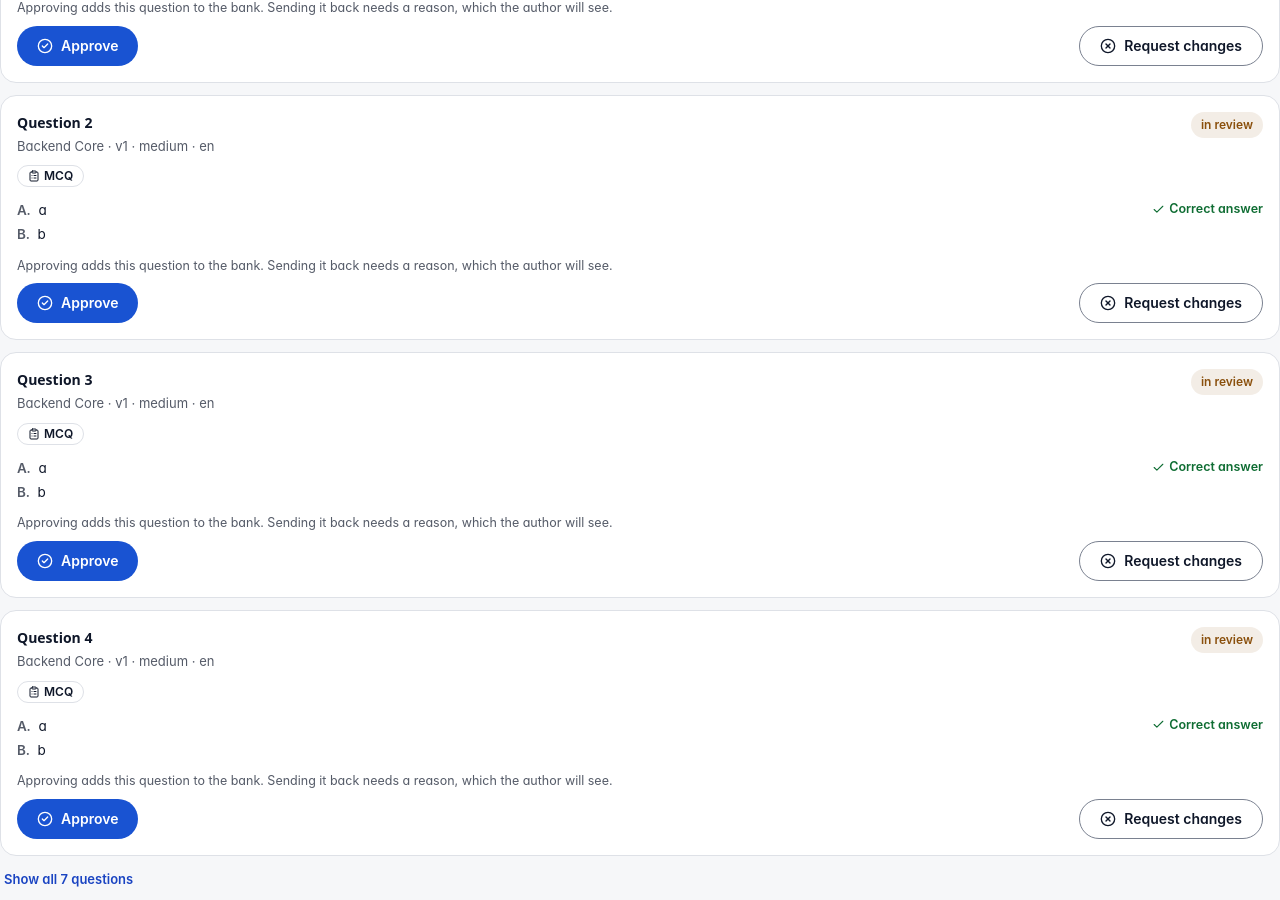
Test: QuestionReviewQueue - what a reviewer sees before deciding › caps a long queue at five with Show all
The width and height of the screenshot is (1280, 900).
(page scrolled)
Click the button "Show all 7 questions" at (69, 880), box x1=0 y1=860 x2=137 y2=899
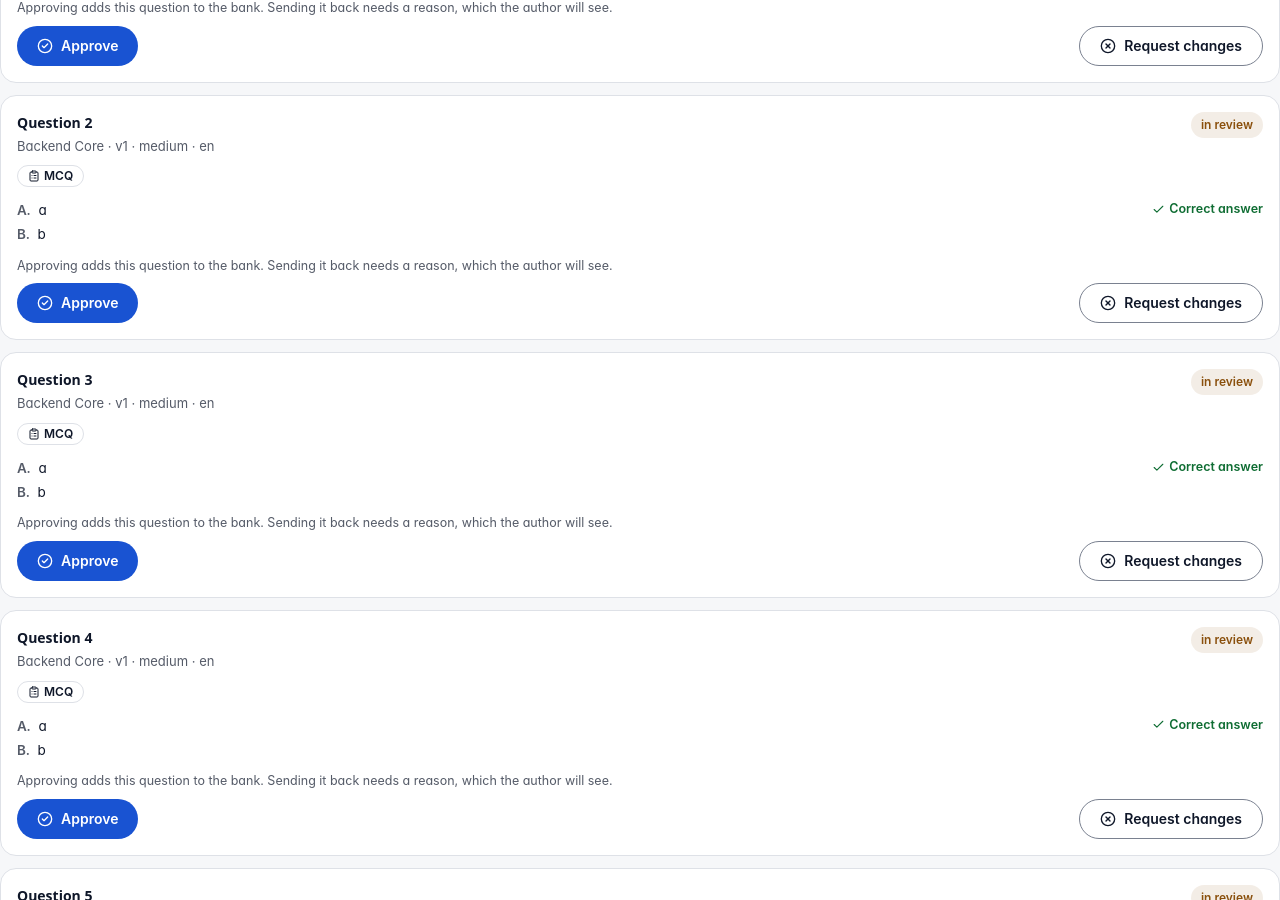
Expected: the number of elements with test id "review-row" is 7
